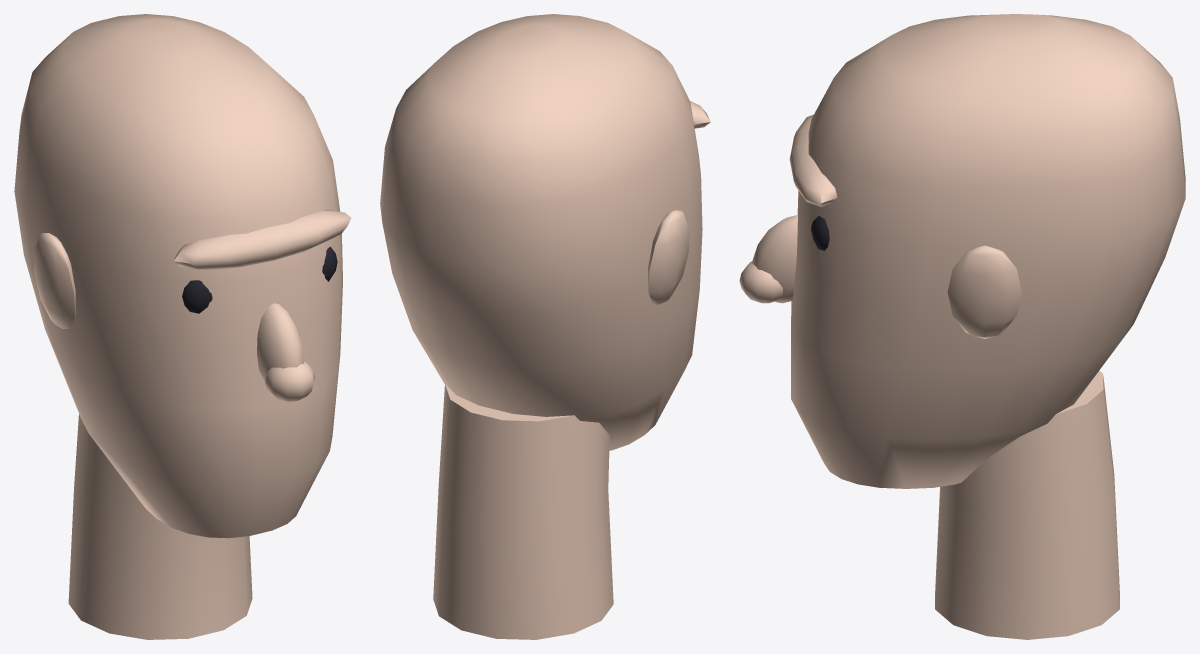
File: Char_Head.fbx
3 renders of one model, left to right at view 1: azimuth 30°, elevation 25°; view 2: azimuth 150°, elevation 25°; view 3: azimuth 270°, elevation 25°, orthographic. The views are drawn at different scales.
Parts seen in each view (by area): view 1: Char_Head; view 2: Char_Head; view 3: Char_Head.
Part boxes in pixels (x1,y1,x2,y2): Char_Head: (14,14,351,639); Char_Head: (380,14,710,639); Char_Head: (739,14,1185,639).
Bounding box in the file's own units: 0.1759 × 0.34 × 0.24.
